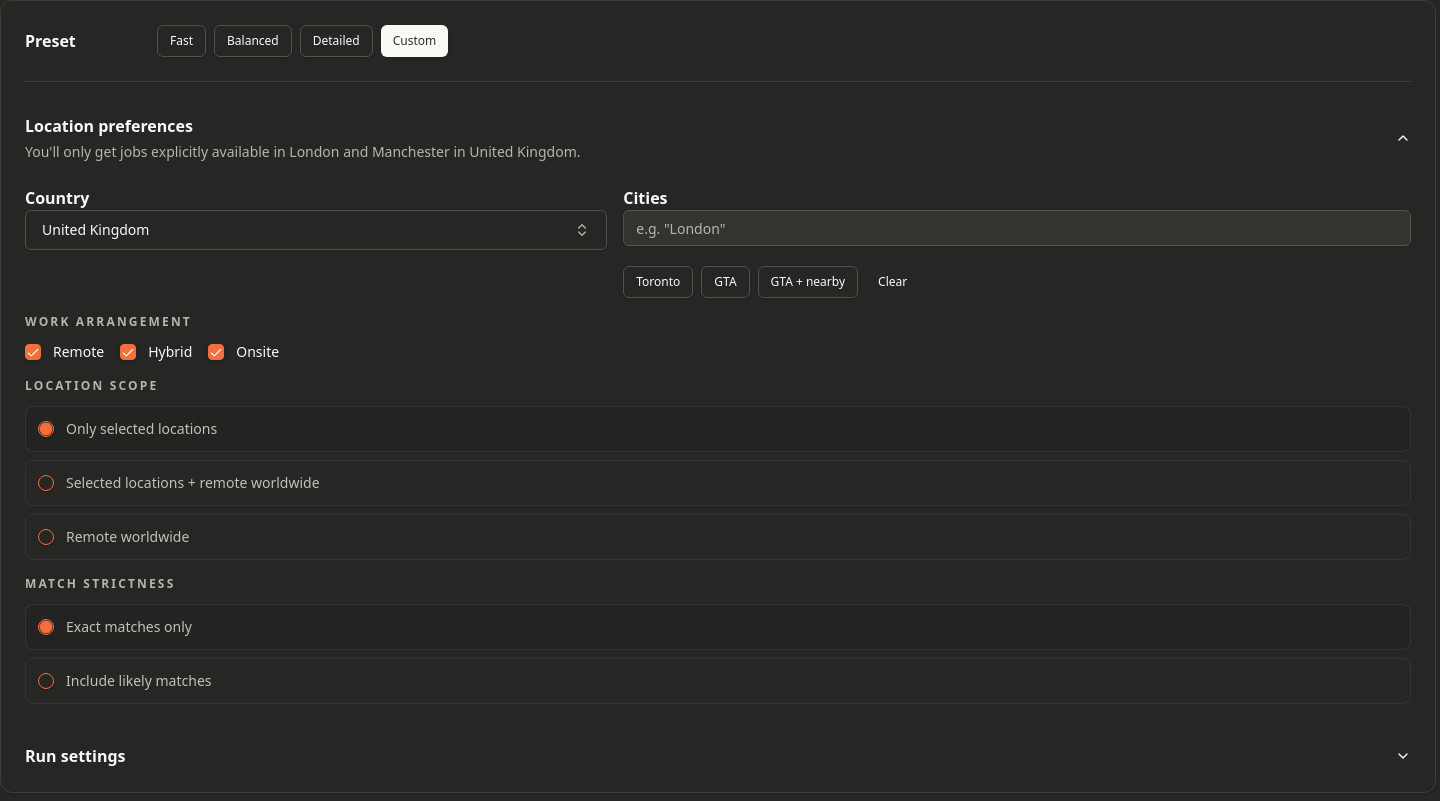
Test: AutomaticRunTab › loads multiple saved cities and keeps glassdoor enabled
The width and height of the screenshot is (1440, 801).
Focus the field labelled "Cities": (1017, 228) x1=623 y1=210 x2=1411 y2=246
(page scrolled)
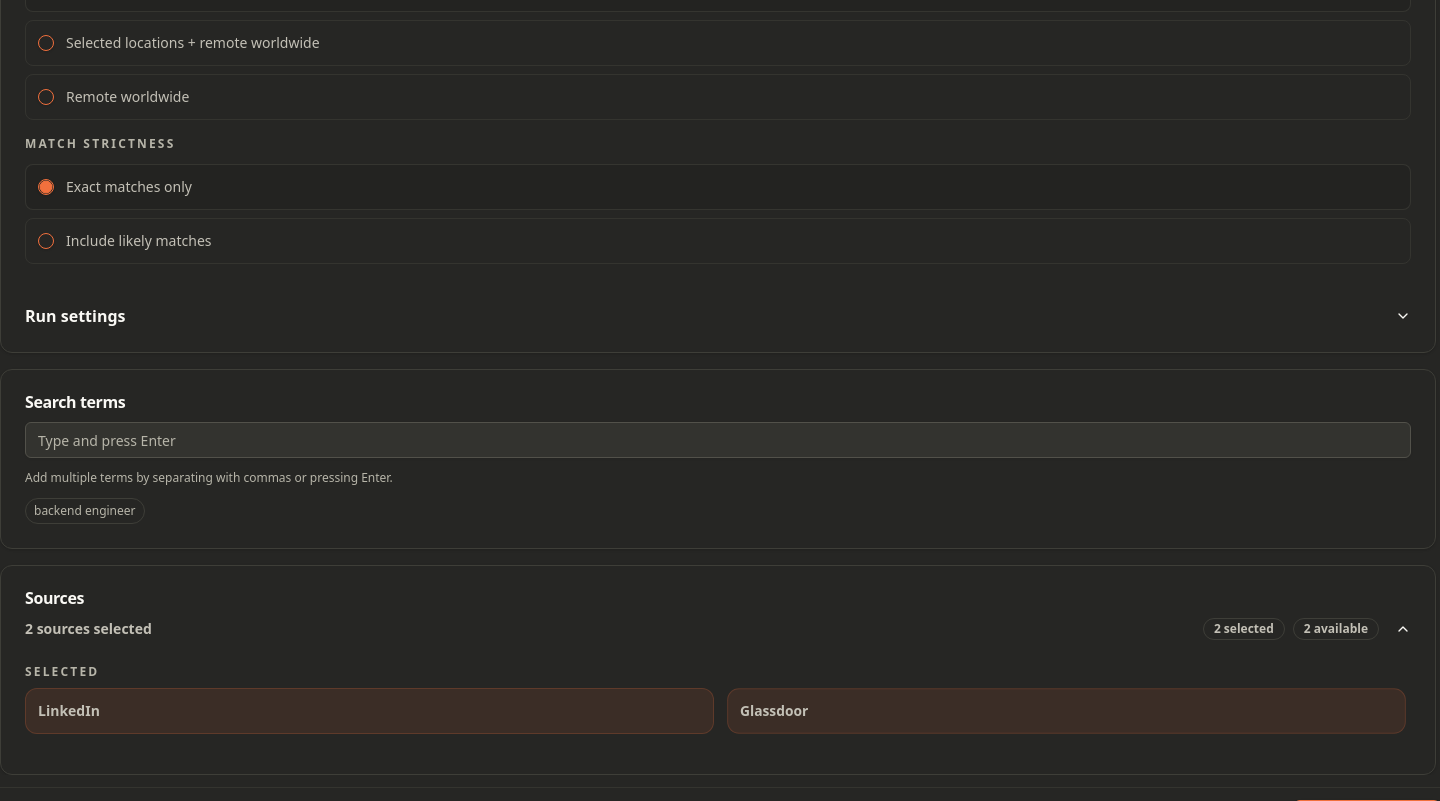
Result: the button "Glassdoor" is enabled at x1=727 y1=688 x2=1406 y2=734
